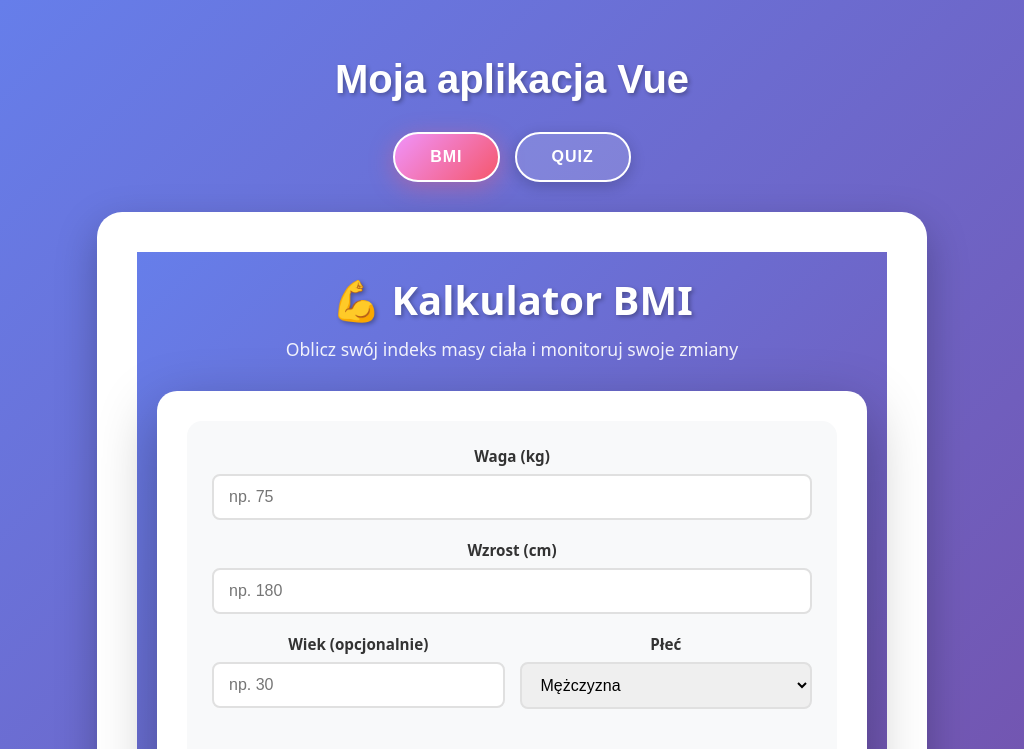
Scenario: App.vue › pokazuje ekran startowy quizu po kliknięciu przycisku Quiz
This screenshot has width=1024, height=749.
Click the button "Quiz" at (573, 157), box [514, 132, 631, 182]
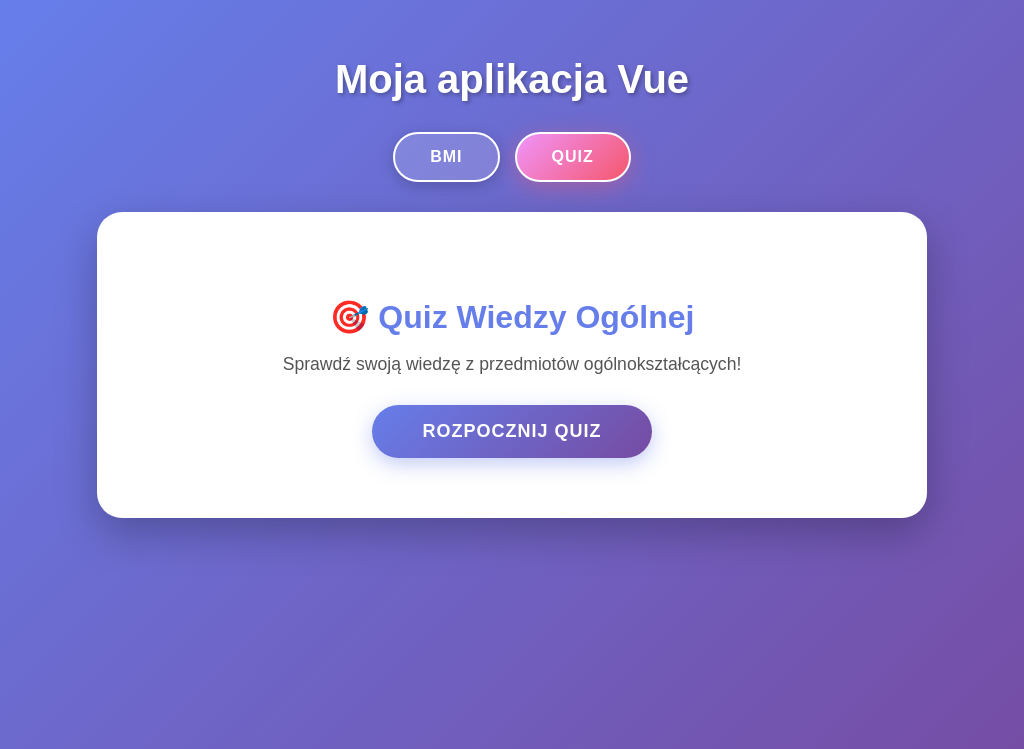
Now the text "Quiz Wiedzy Ogólnej" is shown, box [330, 299, 694, 335]
